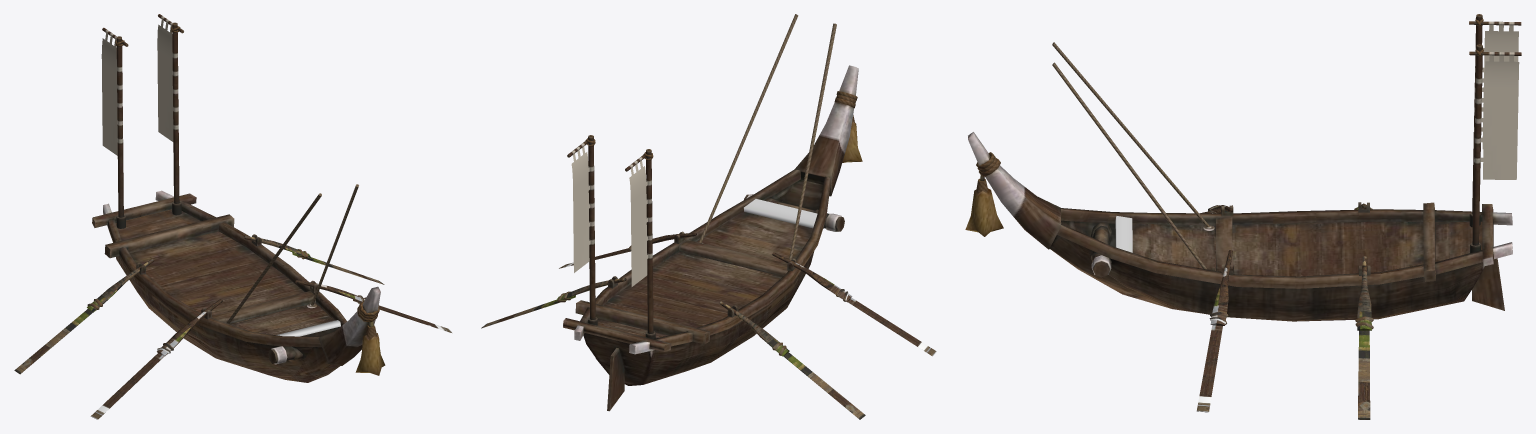
File: 266-rammingwasen.glb
3 views of the same model, side by side, from view 1: azimuth 30°, elevation 25°; view 2: azimuth 150°, elevation 25°; view 3: azimuth 270°, elevation 25° (orthographic). The views are drawn at different scales.
Bounding box in the file's own units: 4.66 × 3.16 × 5.5.
3 materials, 2 textured.
